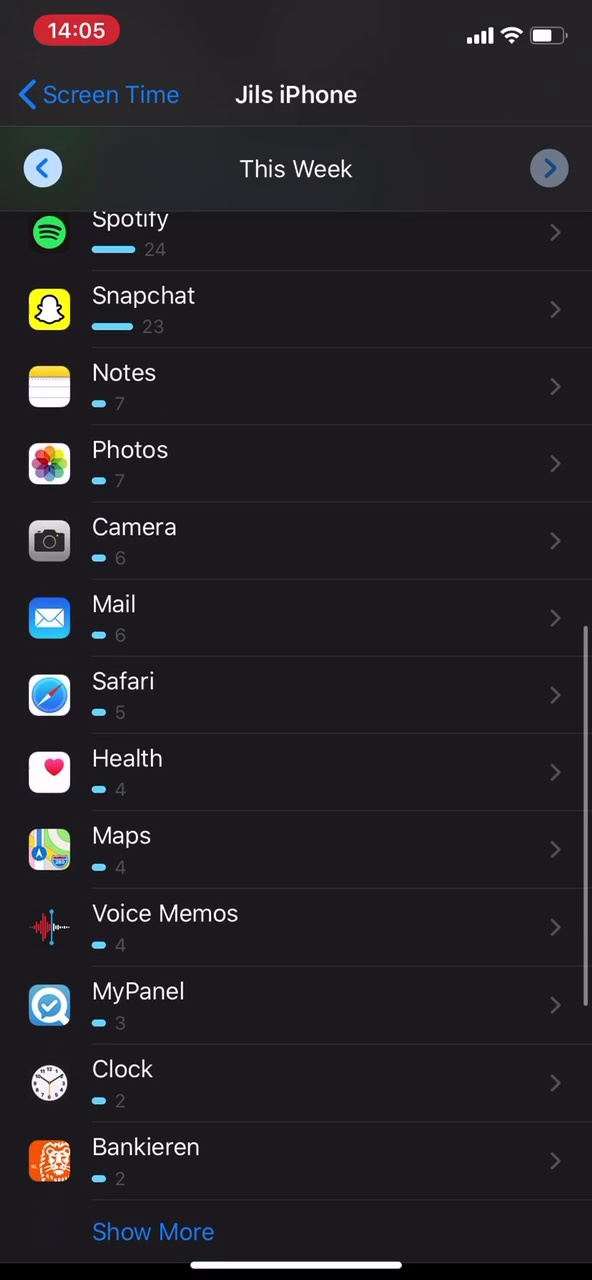pick_app: (26, 899, 284, 958), (17, 974, 242, 1039), (12, 197, 215, 269), (14, 1135, 242, 1194), (25, 741, 217, 810), (14, 1057, 223, 1117), (22, 352, 207, 419), (17, 283, 231, 338), (28, 661, 200, 727), (26, 508, 212, 567), (18, 436, 211, 492), (22, 825, 204, 882), (26, 589, 189, 647)
week: (221, 150, 368, 189)
